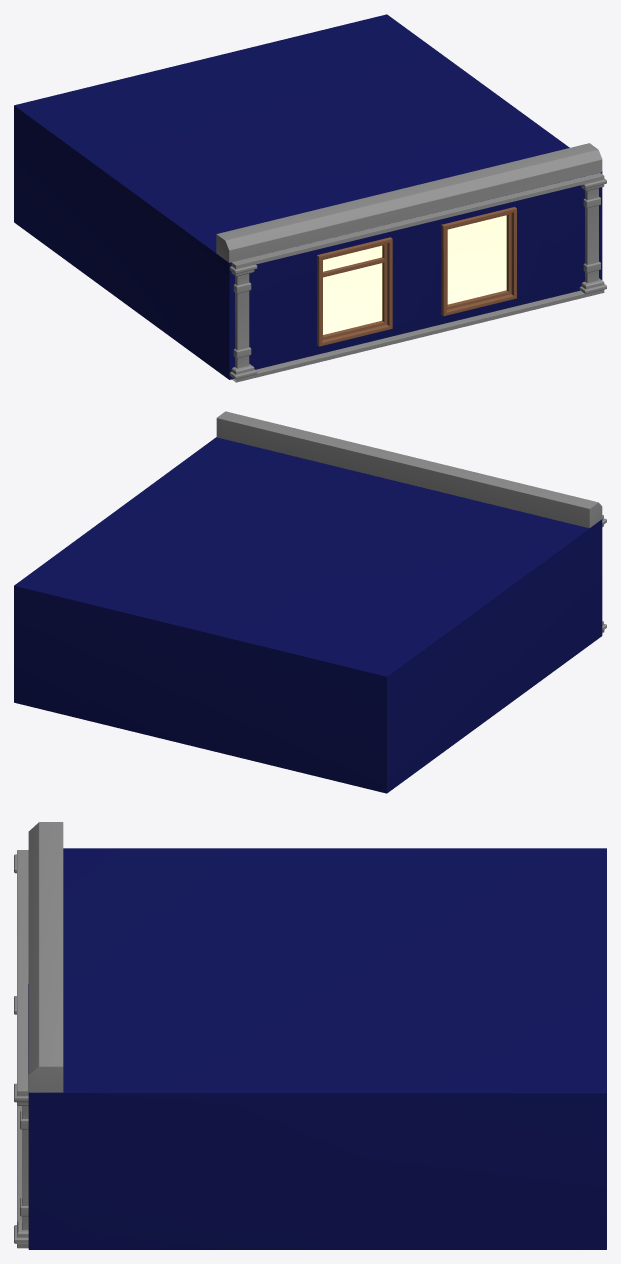
The model's file is Building2 top.fbx.
3 views of the same model, one above another, from view 1: azimuth 30°, elevation 25°; view 2: azimuth 150°, elevation 25°; view 3: azimuth 270°, elevation 25° (orthographic). The views are drawn at different scales.
Parts seen in each view (by area): view 1: MIDDLE BUILDING 1 TOP; view 2: MIDDLE BUILDING 1 TOP; view 3: MIDDLE BUILDING 1 TOP.
Part boxes in pixels (bbox=[...]): MIDDLE BUILDING 1 TOP: bbox=[14, 14, 606, 382]; MIDDLE BUILDING 1 TOP: bbox=[14, 411, 606, 793]; MIDDLE BUILDING 1 TOP: bbox=[14, 822, 606, 1249].
Bounding box in the file's own units: 1001 × 350 × 1025.
